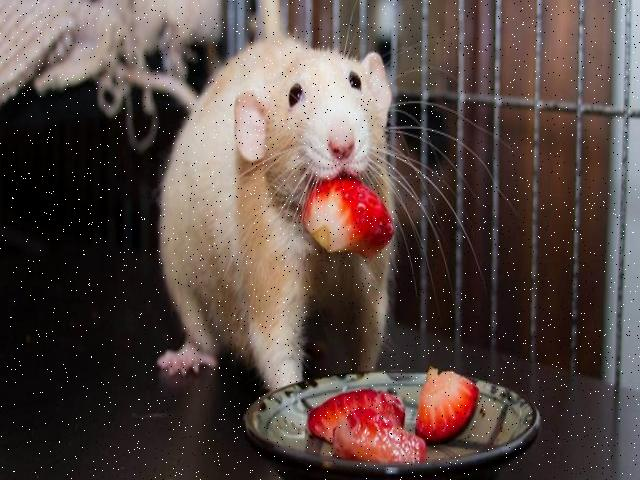Tikus: (156, 38, 396, 380)
